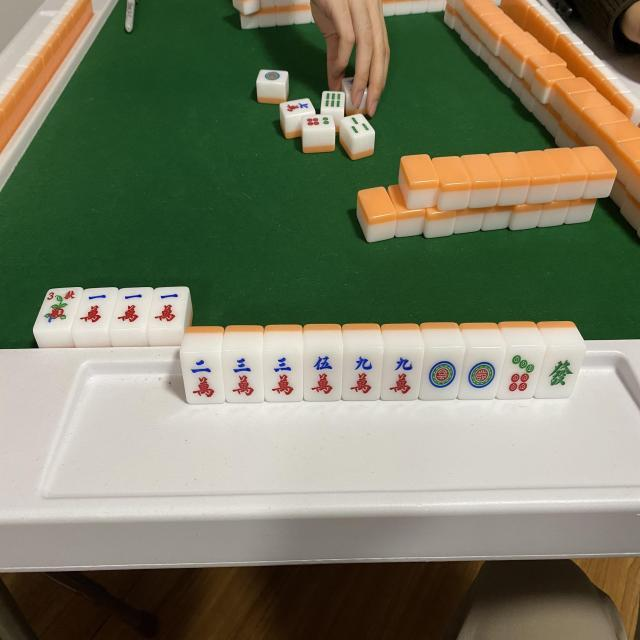bs3: (44, 288, 78, 329)
hdg: (543, 348, 582, 396)
sc1: (150, 287, 186, 328), (77, 288, 109, 330), (116, 288, 148, 328)
sc3: (185, 352, 222, 402), (224, 352, 260, 399), (266, 353, 300, 401)
sc5: (308, 352, 341, 398)
sc9: (346, 352, 380, 398), (384, 351, 417, 397)
sd1: (462, 350, 500, 398), (424, 349, 462, 397)
sd7: (503, 350, 540, 402)
